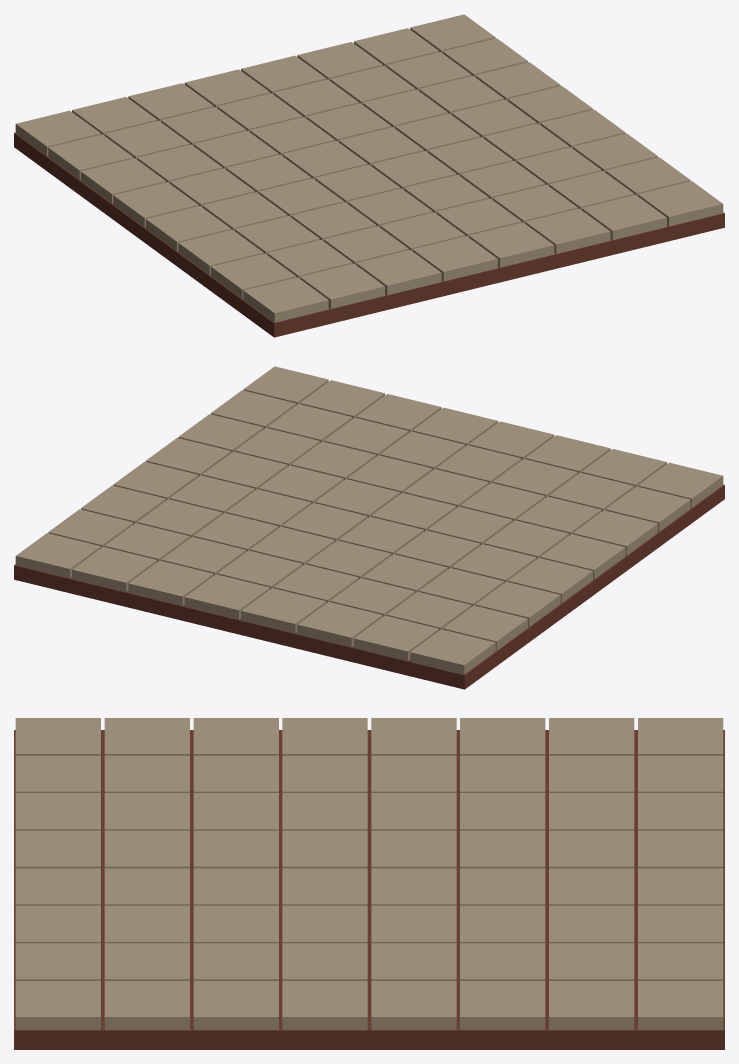
Rendered from FloorCobble__Bailey.fbx.
3 renders of one model, top to bottom at view 1: azimuth 30°, elevation 25°; view 2: azimuth 150°, elevation 25°; view 3: azimuth 270°, elevation 25°, orthographic. The views are drawn at different scales.
Visible parts, largest first — view 1: FloorCobble__Bailey; view 2: FloorCobble__Bailey; view 3: FloorCobble__Bailey.
Part boxes in pixels (box(x1,y1,x2,y2)): FloorCobble__Bailey: box(14, 14, 724, 337); FloorCobble__Bailey: box(14, 366, 724, 689); FloorCobble__Bailey: box(14, 718, 724, 1049).
Size of the model in its own units: 400 by 20 by 400.
1 material, 1 textured.
